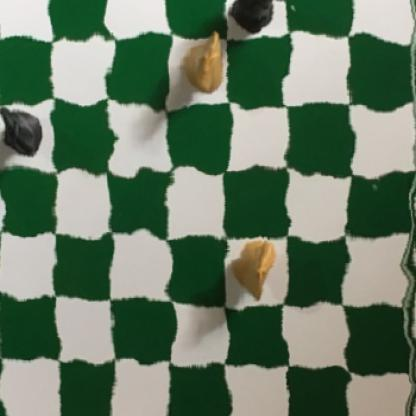black-knight: (0, 100, 44, 158), (231, 0, 292, 34)
white-knight: (181, 27, 232, 91), (230, 240, 281, 304)
